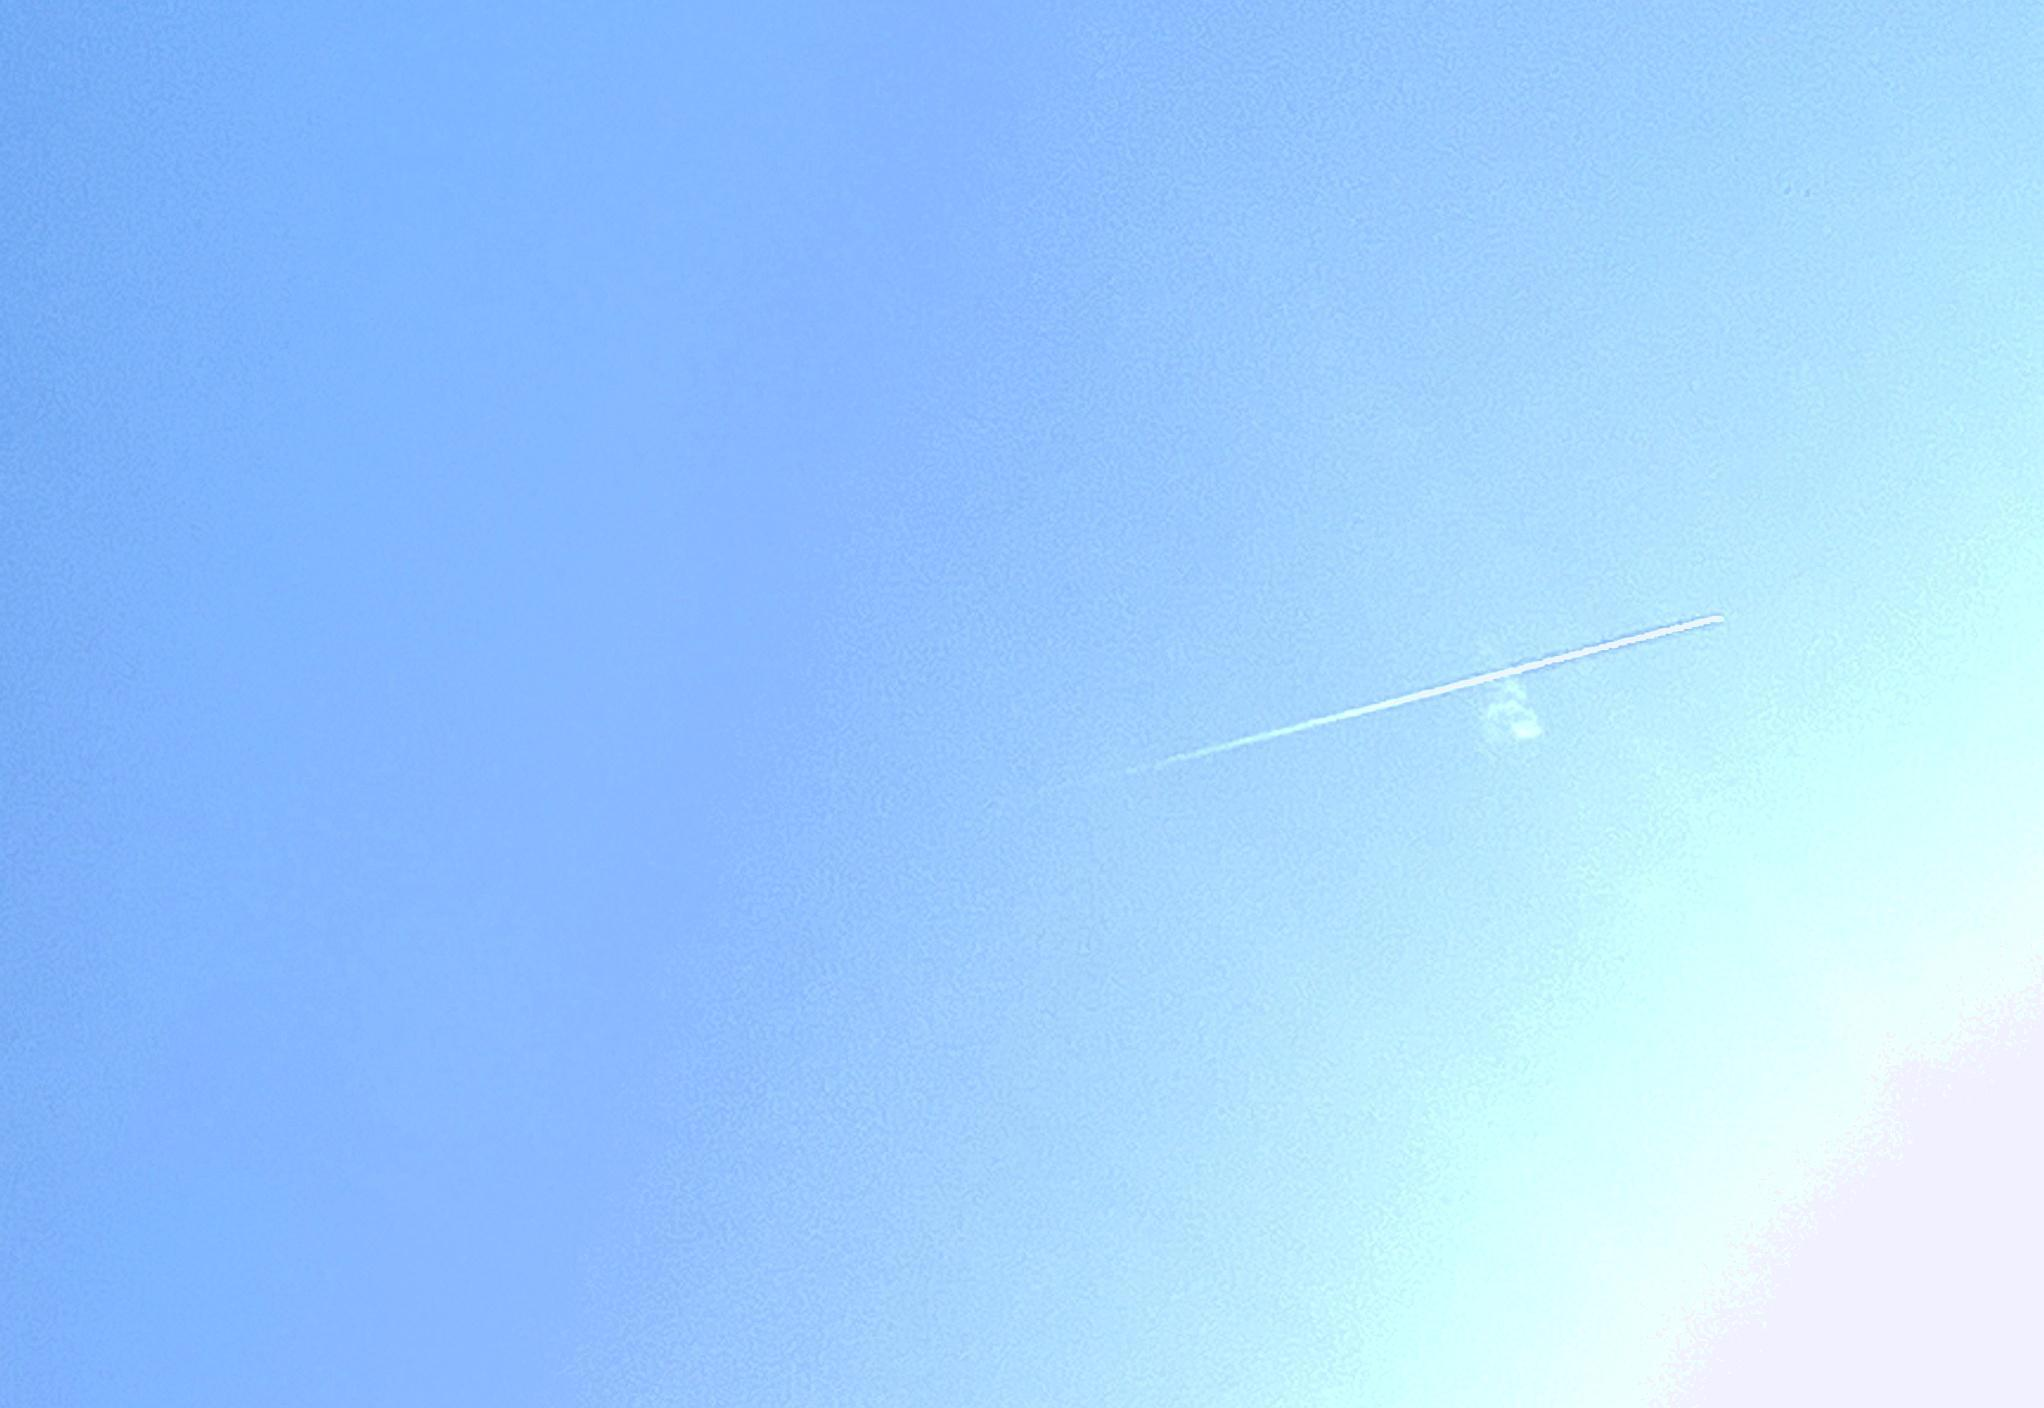Plane: (1090, 585, 1764, 785)
